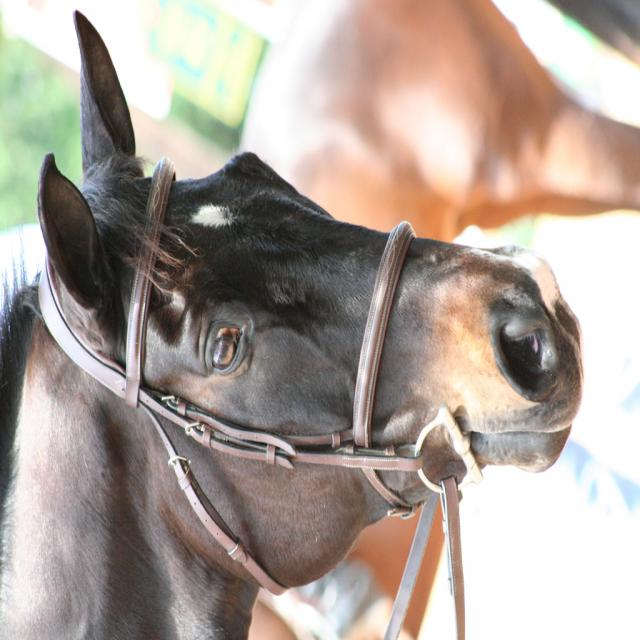Horse: (0, 13, 586, 639)
